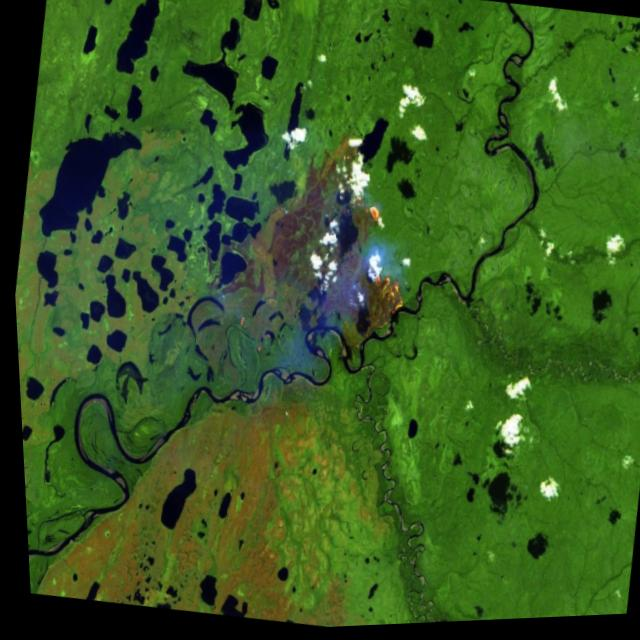fire: (328, 178, 446, 347)
